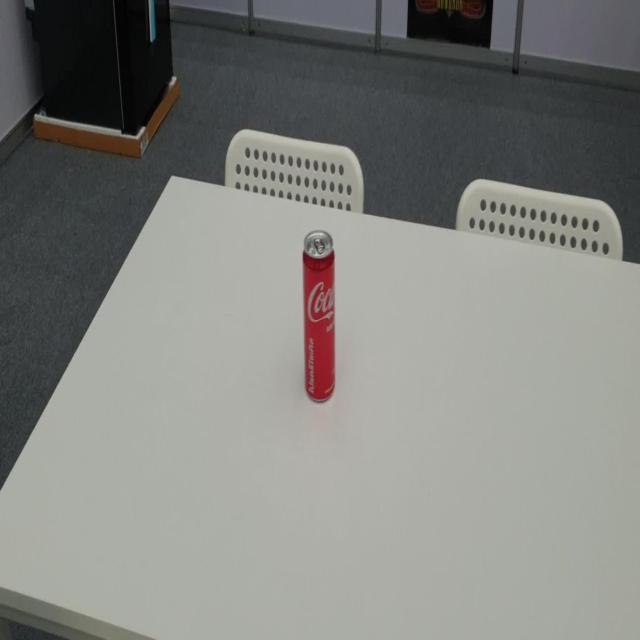coca-cola: (302, 228, 337, 406)
